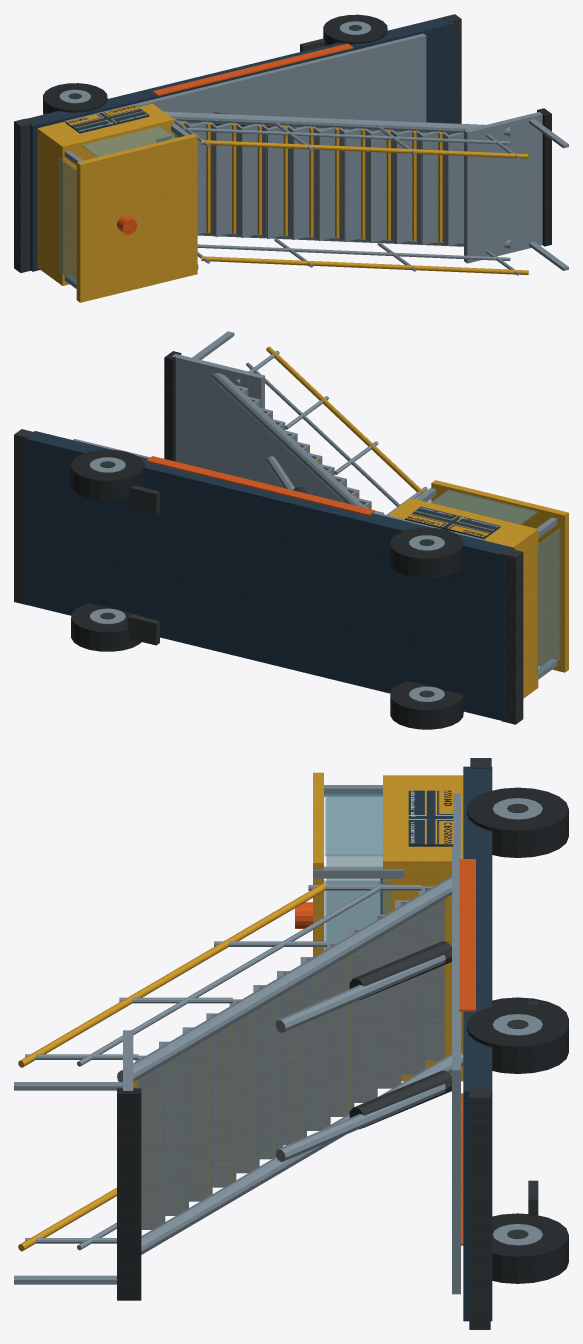
File: PZ_Mobile_Stair_Truck.glb
3 renders of one model, top to bottom at view 1: azimuth 30°, elevation 25°; view 2: azimuth 150°, elevation 25°; view 3: azimuth 270°, elevation 25°, orthographic. The views are drawn at different scales.
Parts seen in each view (by area): view 1: RENDER_Mobile_Stair_Truck_OperatorCabRoof, RENDER_Mobile_Stair_Truck_LowerFlatDeck, RENDER_Mobile_Stair_Truck_UpperBoardingPlatform, RENDER_Mobile_Stair_Truck_OperatorCabLower, RENDER_Mobile_Stair_Truck_LadderFrameChassis, RENDER_Mobile_Stair_Truck_BoomStringer_1, RENDER_Mobile_Stair_Truck_RearBumper, RENDER_Mobile_Stair_Truck_RearCabGlass, RENDER_Mobile_Stair_Truck_GratedStep_11, RENDER_Mobile_Stair_Truck_GratedStep_06, RENDER_Mobile_Stair_Truck_GratedStep_10, RENDER_Mobile_Stair_Truck_GratedStep_03 (+39 smaller); view 2: RENDER_Mobile_Stair_Truck_LadderFrameChassis, RENDER_Mobile_Stair_Truck_OperatorCabRoof, RENDER_Mobile_Stair_Truck_UpperBoardingPlatform, RENDER_Mobile_Stair_Truck_OperatorCabLower, RENDER_Mobile_Stair_Truck_RearBumper, RENDER_Mobile_Stair_Truck_RearCabGlass, RENDER_Mobile_Stair_Truck_Tire_Rear_1, RENDER_Mobile_Stair_Truck_Tire_Front_1, RENDER_Mobile_Stair_Truck_Tire_Rear_-1, RENDER_Mobile_Stair_Truck_BoomStringer_1, RENDER_Mobile_Stair_Truck_Tire_Front_-1, RENDER_Mobile_Stair_Truck_FrontBumper (+12 smaller); view 3: RENDER_Mobile_Stair_Truck_LadderFrameChassis, RENDER_Mobile_Stair_Truck_OperatorCabLower, RENDER_Mobile_Stair_Truck_BoomStringer_1, RENDER_Mobile_Stair_Truck_RearCabGlass, RENDER_Mobile_Stair_Truck_FrontBumper, RENDER_Mobile_Stair_Truck_FrontBoardingBumper, RENDER_Mobile_Stair_Truck_Tire_Front_1, RENDER_Mobile_Stair_Truck_Tire_Rear_1, RENDER_Mobile_Stair_Truck_LowerFlatDeck, RENDER_Mobile_Stair_Truck_Tire_Front_-1, RENDER_Mobile_Stair_Truck_BoomStringer_-1, RENDER_Mobile_Stair_Truck_CabWindowSide_1 (+38 smaller).
Boxes of the visible parts, <box> form: RENDER_Mobile_Stair_Truck_OperatorCabRoof: <box>76,134,197,302</box>; RENDER_Mobile_Stair_Truck_LowerFlatDeck: <box>64,33,426,133</box>; RENDER_Mobile_Stair_Truck_UpperBoardingPlatform: <box>464,112,542,263</box>; RENDER_Mobile_Stair_Truck_OperatorCabLower: <box>37,103,174,285</box>; RENDER_Mobile_Stair_Truck_LadderFrameChassis: <box>27,17,453,271</box>; RENDER_Mobile_Stair_Truck_BoomStringer_1: <box>163,111,510,136</box>; RENDER_Mobile_Stair_Truck_RearBumper: <box>14,118,32,272</box>; RENDER_Mobile_Stair_Truck_RearCabGlass: <box>59,158,76,284</box>; RENDER_Mobile_Stair_Truck_GratedStep_11: <box>421,131,439,244</box>; RENDER_Mobile_Stair_Truck_GratedStep_06: <box>292,126,311,239</box>; RENDER_Mobile_Stair_Truck_GratedStep_10: <box>395,130,414,243</box>; RENDER_Mobile_Stair_Truck_GratedStep_03: <box>214,123,234,236</box>; RENDER_Mobile_Stair_Truck_LadderFrameChassis: <box>24,431,514,721</box>; RENDER_Mobile_Stair_Truck_OperatorCabRoof: <box>431,480,568,672</box>; RENDER_Mobile_Stair_Truck_UpperBoardingPlatform: <box>172,354,264,473</box>; RENDER_Mobile_Stair_Truck_OperatorCabLower: <box>388,498,538,698</box>; RENDER_Mobile_Stair_Truck_RearBumper: <box>501,548,523,724</box>; RENDER_Mobile_Stair_Truck_RearCabGlass: <box>537,528,560,675</box>; RENDER_Mobile_Stair_Truck_Tire_Rear_1: <box>390,527,463,578</box>; RENDER_Mobile_Stair_Truck_Tire_Front_1: <box>71,449,144,500</box>; RENDER_Mobile_Stair_Truck_Tire_Rear_-1: <box>390,681,463,729</box>; RENDER_Mobile_Stair_Truck_BoomStringer_1: <box>211,373,365,507</box>; RENDER_Mobile_Stair_Truck_Tire_Front_-1: <box>71,603,143,651</box>; RENDER_Mobile_Stair_Truck_FrontBumper: <box>14,429,35,605</box>; RENDER_Mobile_Stair_Truck_LadderFrameChassis: <box>463,766,492,1321</box>; RENDER_Mobile_Stair_Truck_OperatorCabLower: <box>383,775,463,1081</box>; RENDER_Mobile_Stair_Truck_BoomStringer_1: <box>117,876,451,1081</box>; RENDER_Mobile_Stair_Truck_RearCabGlass: <box>326,797,382,942</box>; RENDER_Mobile_Stair_Truck_FrontBumper: <box>469,1088,490,1329</box>; RENDER_Mobile_Stair_Truck_FrontBoardingBumper: <box>117,1088,141,1300</box>; RENDER_Mobile_Stair_Truck_Tire_Front_1: <box>466,1003,568,1073</box>; RENDER_Mobile_Stair_Truck_Tire_Rear_1: <box>466,787,568,857</box>; RENDER_Mobile_Stair_Truck_LowerFlatDeck: <box>452,793,460,1294</box>; RENDER_Mobile_Stair_Truck_Tire_Front_-1: <box>492,1213,568,1283</box>; RENDER_Mobile_Stair_Truck_BoomStringer_-1: <box>141,1053,463,1254</box>; RENDER_Mobile_Stair_Truck_CabWindowSide_1: <box>324,794,382,856</box>.
Size of the model in its own units: 7.22 by 2.37 by 4.98.
Materials: 9 (9 with a texture image).
